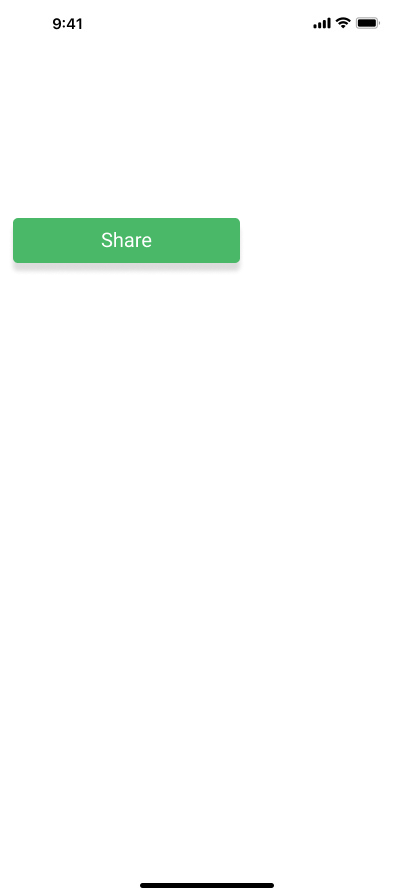Buttons: (8, 218, 245, 276)
Home Indicator: (0, 862, 414, 896)
Status Bar: (0, 0, 414, 44)
